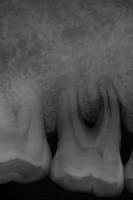Dental Caries: (48, 71, 104, 130)
